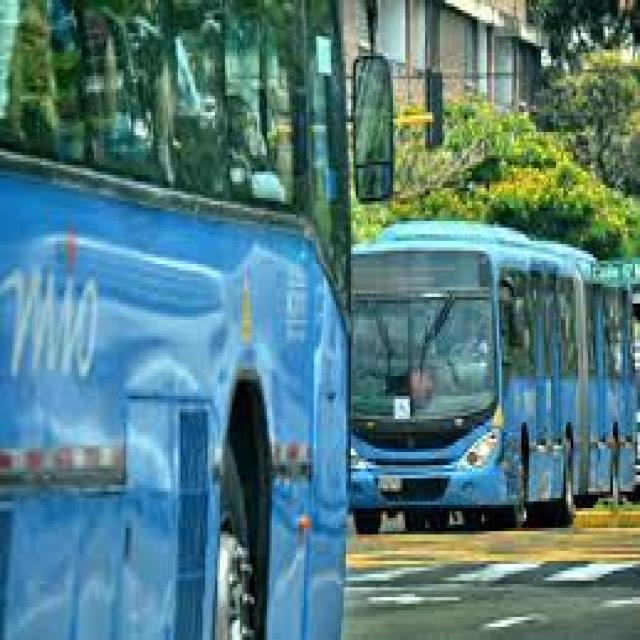BUS: (336, 220, 612, 530)
